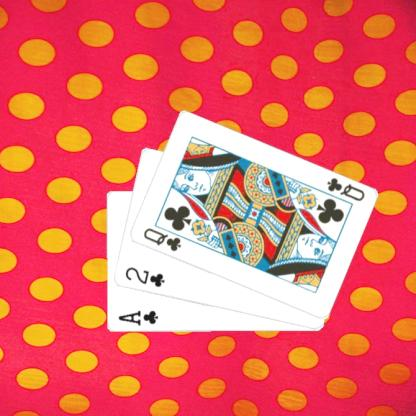2C: (122, 264, 166, 288)
AC: (115, 308, 159, 327)
QC: (140, 225, 182, 253), (324, 175, 366, 203)
